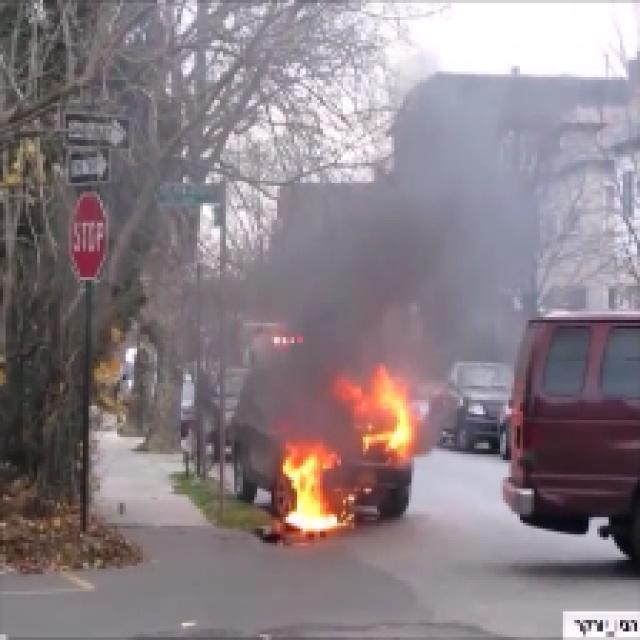Fire: (278, 358, 432, 550), (306, 362, 423, 473)
Smoke: (302, 194, 508, 350)
